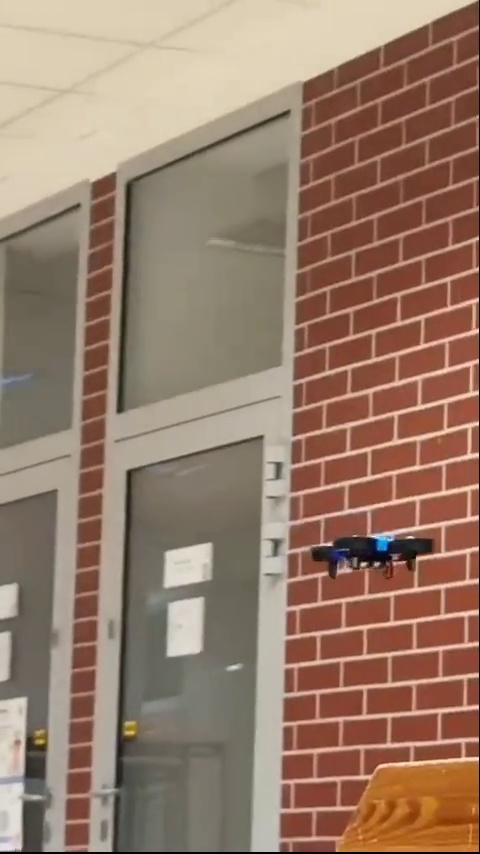drone: (316, 533, 432, 584)
